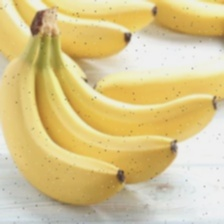banana: (59, 29, 198, 199)
